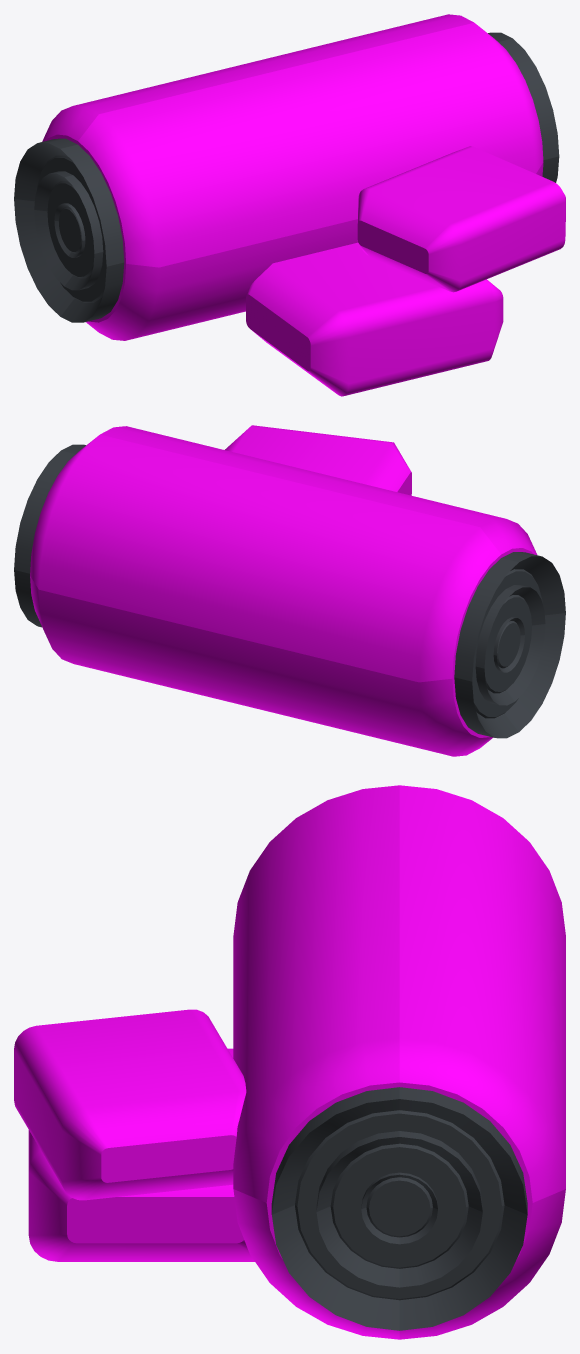
File: objet_caoutchouc.glb
The picture shows the model from 3 angles, top to bottom: view 1: azimuth 30°, elevation 25°; view 2: azimuth 150°, elevation 25°; view 3: azimuth 270°, elevation 25°; orthographic projection. The views are drawn at different scales.
Parts seen in each view (by area): view 1: caoutchouc_teinte.002, caoutchouc_teinte_sombre.002; view 2: caoutchouc_teinte.002, caoutchouc_teinte_sombre.002; view 3: caoutchouc_teinte.002, caoutchouc_teinte_sombre.002.
Part boxes in pixels (x1,y1,x2,y2): caoutchouc_teinte.002: [42, 14, 565, 396]; caoutchouc_teinte_sombre.002: [14, 32, 559, 322]; caoutchouc_teinte.002: [30, 425, 537, 756]; caoutchouc_teinte_sombre.002: [14, 444, 565, 738]; caoutchouc_teinte.002: [14, 785, 565, 1339]; caoutchouc_teinte_sombre.002: [271, 1087, 527, 1330].
Bounding box in the file's own units: 0.282 × 0.13 × 0.2158.
